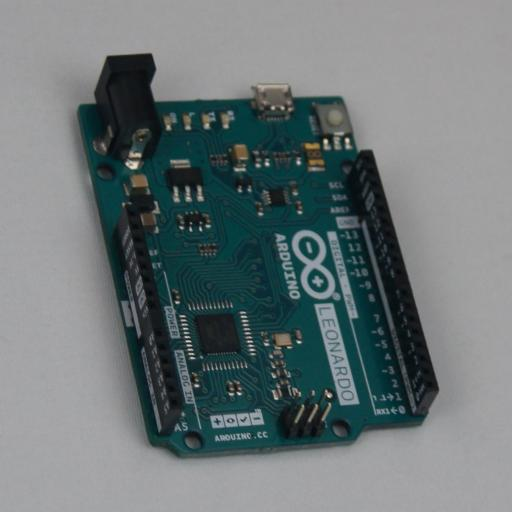Arduino Leonardo: (76, 54, 439, 458)
